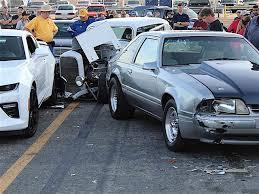Bumper: (196, 114, 246, 144)
Light: (194, 100, 251, 115)
